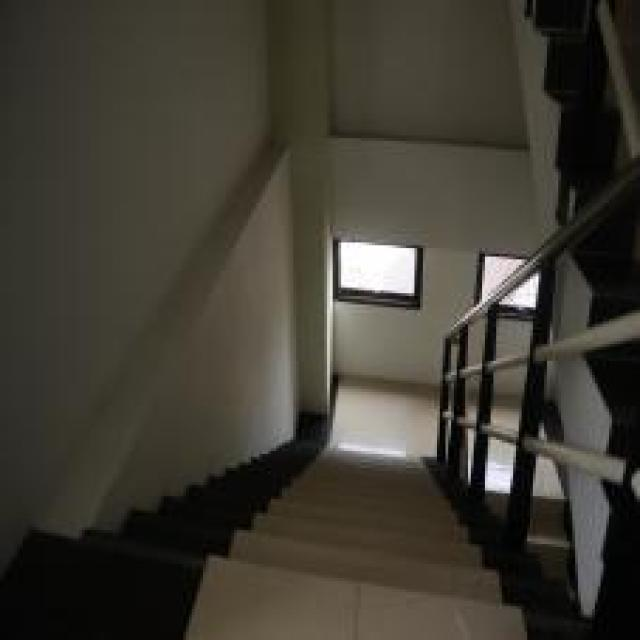downstair: (156, 441, 452, 638)
